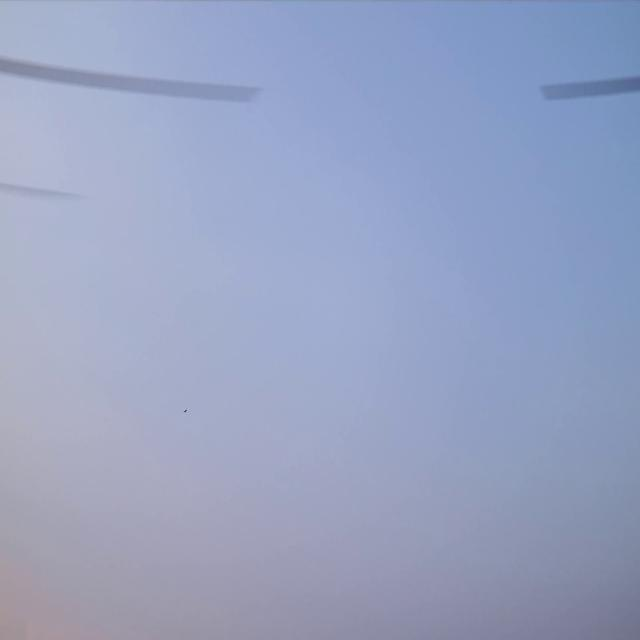UAV: (183, 408, 187, 413)
